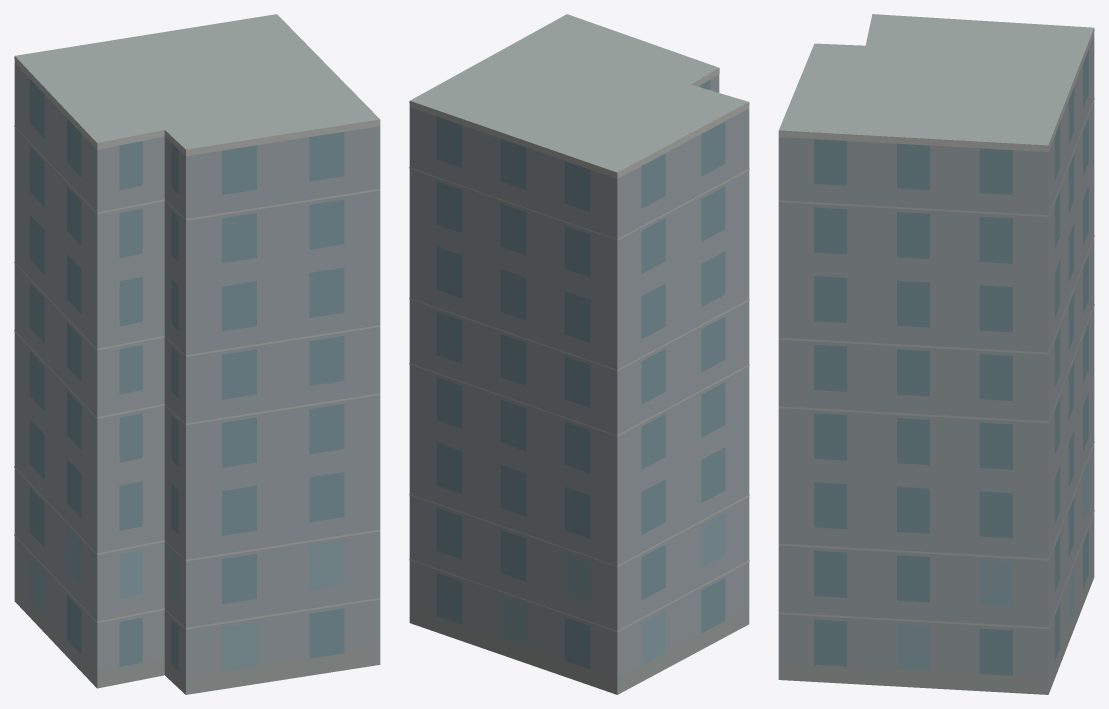
File: survey-upis-32820912.glb
3 renders of one model, left to right at view 1: azimuth 30°, elevation 25°; view 2: azimuth 150°, elevation 25°; view 3: azimuth 270°, elevation 25°, orthographic. The views are drawn at different scales.
Visible parts, largest first — view 1: survey-upis-32820912.tmp; view 2: survey-upis-32820912.tmp; view 3: survey-upis-32820912.tmp.
Part boxes in pixels (x1=…): survey-upis-32820912.tmp: x1=14, y1=14, x2=380, y2=694; survey-upis-32820912.tmp: x1=409, y1=14, x2=749, y2=694; survey-upis-32820912.tmp: x1=778, y1=14, x2=1094, y2=694.
Size of the model in its own units: 10.23 by 19.9 by 10.38.
